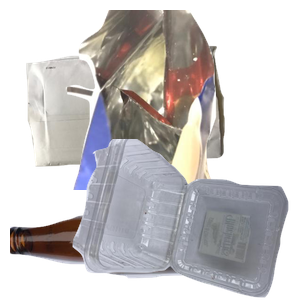glass: (10, 188, 250, 300)
paper: (24, 43, 242, 202)
plastic: (70, 139, 300, 300)
trash: (63, 10, 300, 190)
